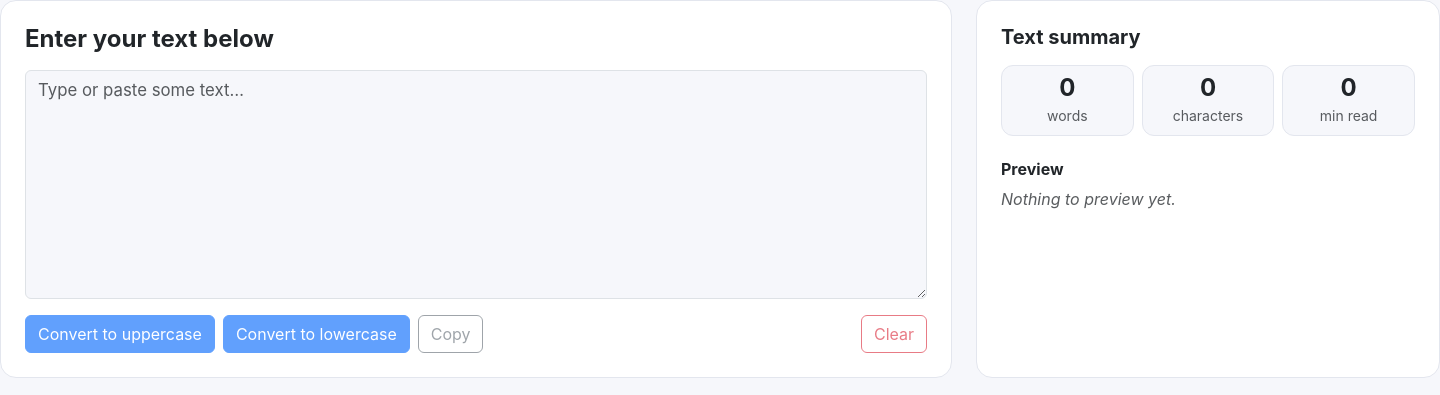
word and character counting › ignores leading and trailing whitespace
Type "   hello world   " into the text box labelled "Enter your text below" at [476, 184], box [25,70,927,299]
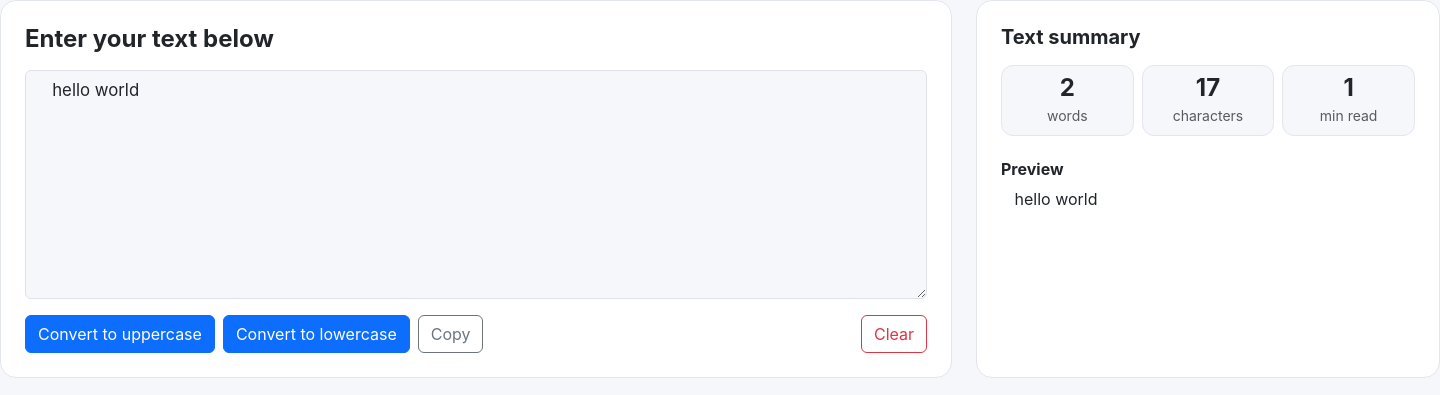
Result: the text "2" is shown at [1060,73,1075,102]
